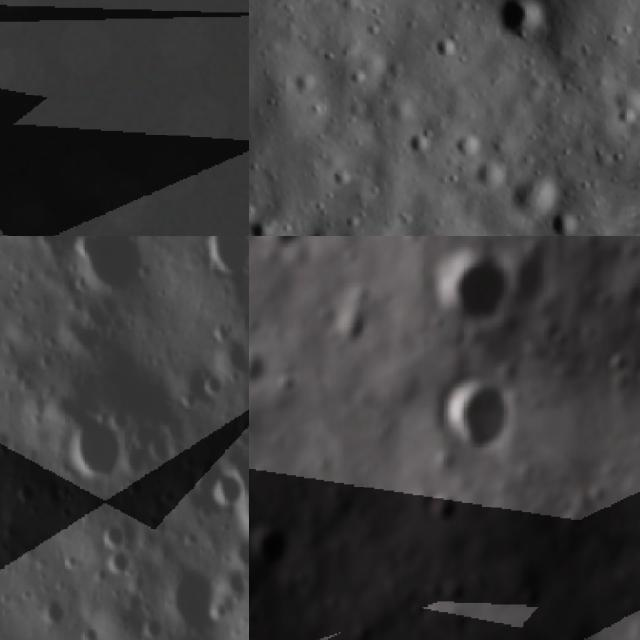crater: (436, 366, 526, 464), (426, 242, 520, 327), (64, 236, 149, 306), (156, 554, 231, 631), (56, 408, 128, 485), (509, 241, 569, 313), (486, 0, 552, 46), (249, 515, 300, 570), (418, 488, 469, 532), (220, 563, 249, 640), (201, 236, 249, 281), (203, 468, 249, 512), (254, 236, 318, 260), (97, 511, 130, 550), (605, 346, 637, 383), (249, 343, 271, 394), (109, 549, 140, 585), (549, 213, 588, 236)
